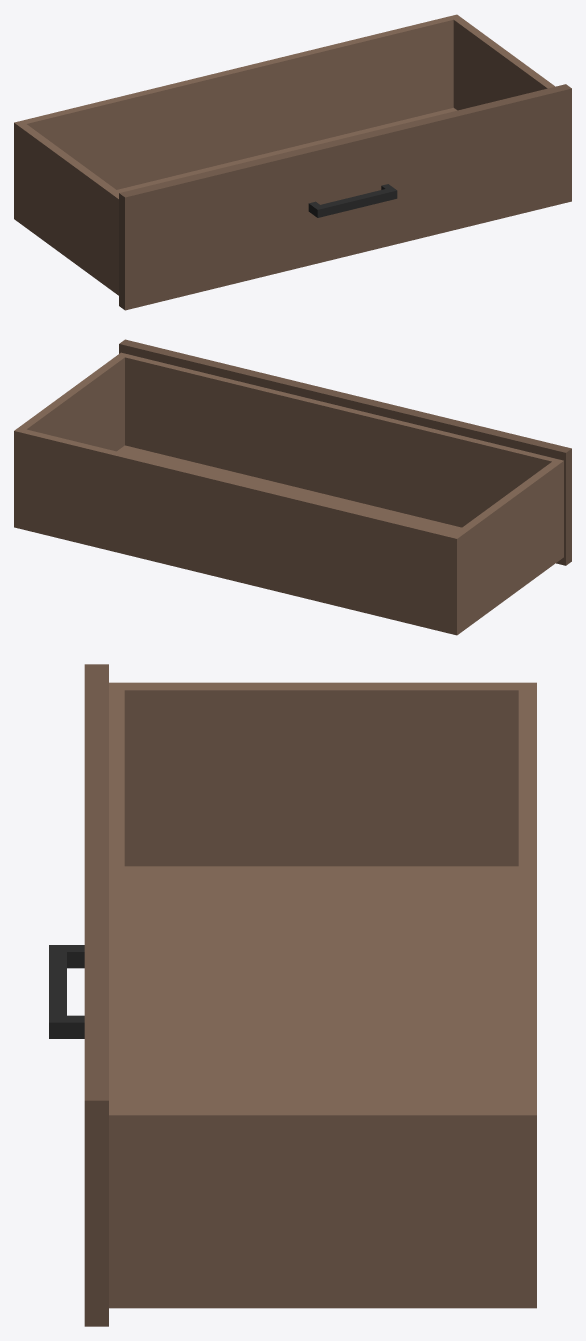
Rendered from Dresser1_C1_02.fbx.
3 renders of one model, top to bottom at view 1: azimuth 30°, elevation 25°; view 2: azimuth 150°, elevation 25°; view 3: azimuth 270°, elevation 25°, orthographic. The views are drawn at different scales.
Visible parts, largest first — view 1: Dresser1_C1_02; view 2: Dresser1_C1_02; view 3: Dresser1_C1_02.
Part boxes in pixels (<box>): Dresser1_C1_02: <box>14,14,571,310</box>; Dresser1_C1_02: <box>14,339,571,635</box>; Dresser1_C1_02: <box>49,664,536,1326</box>.
Bounding box in the file's own units: 85.7 × 20.7 × 40.51.
